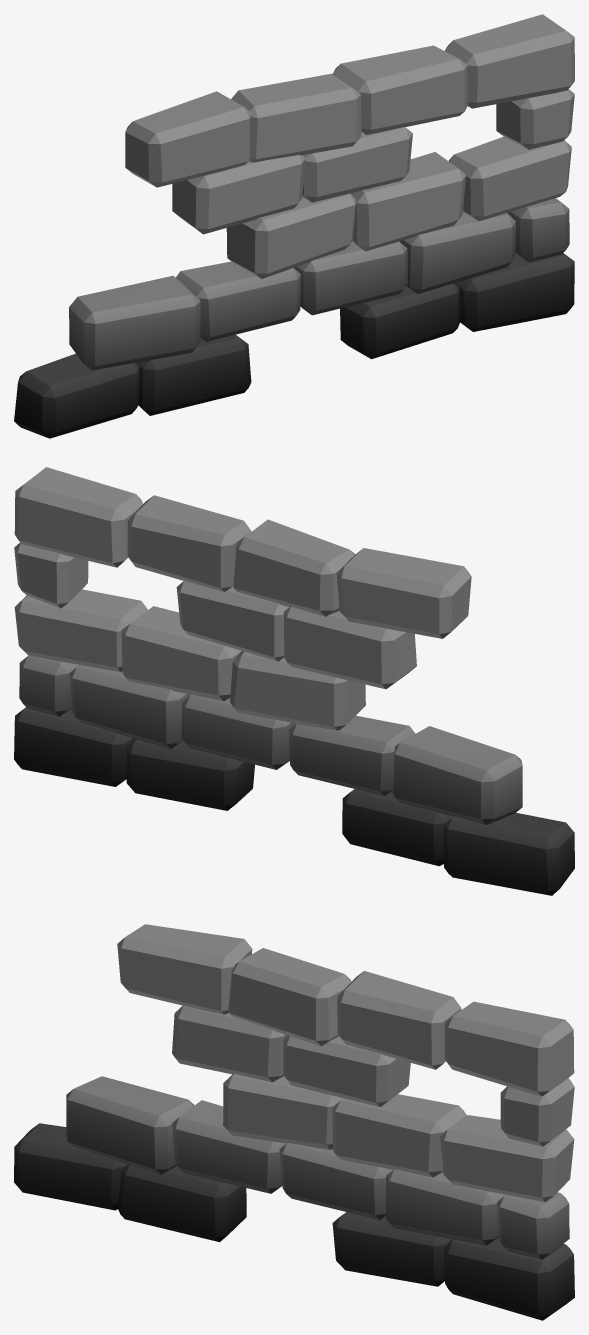
The model's file is BrickWall2x1_01_Solo_Broken_L.fbx.
The picture shows the model from 3 angles, top to bottom: view 1: azimuth 30°, elevation 25°; view 2: azimuth 150°, elevation 25°; view 3: azimuth 330°, elevation 25°; orthographic projection.
Parts seen in each view (by area): view 1: BrickWall2x1_01_Solo_Broken_L; view 2: BrickWall2x1_01_Solo_Broken_L; view 3: BrickWall2x1_01_Solo_Broken_L.
Boxes of the visible parts, left/top/right/bottom form: BrickWall2x1_01_Solo_Broken_L: left=14, top=14, right=574, bottom=438; BrickWall2x1_01_Solo_Broken_L: left=14, top=467, right=574, bottom=895; BrickWall2x1_01_Solo_Broken_L: left=14, top=924, right=574, bottom=1320.
Bounding box in the file's own units: 202 × 101 × 25.45.
